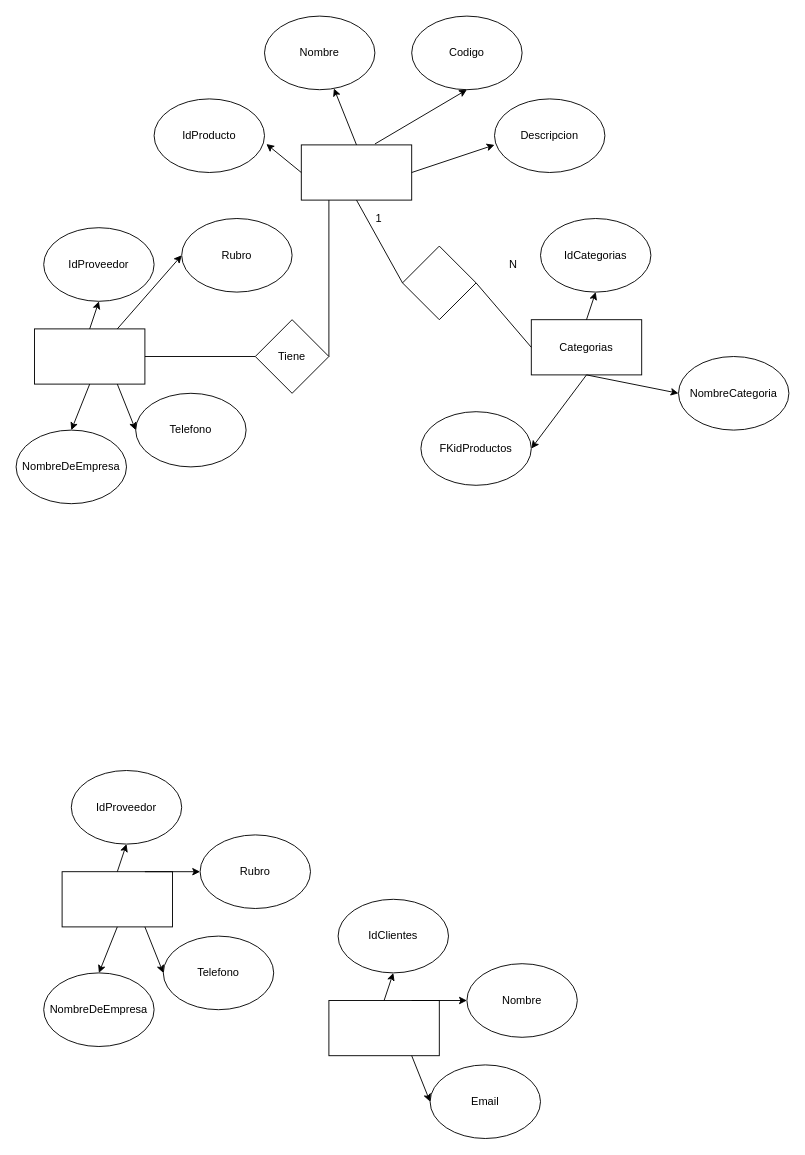
This 805x1155 diagram has some shape labels left out. Each missing label, with the centre of its shape:
asociada: [439,282]
Clientes: [383,1028]
Precios: [89,356]
Productos: [356,172]
Proovedores: [116,899]
